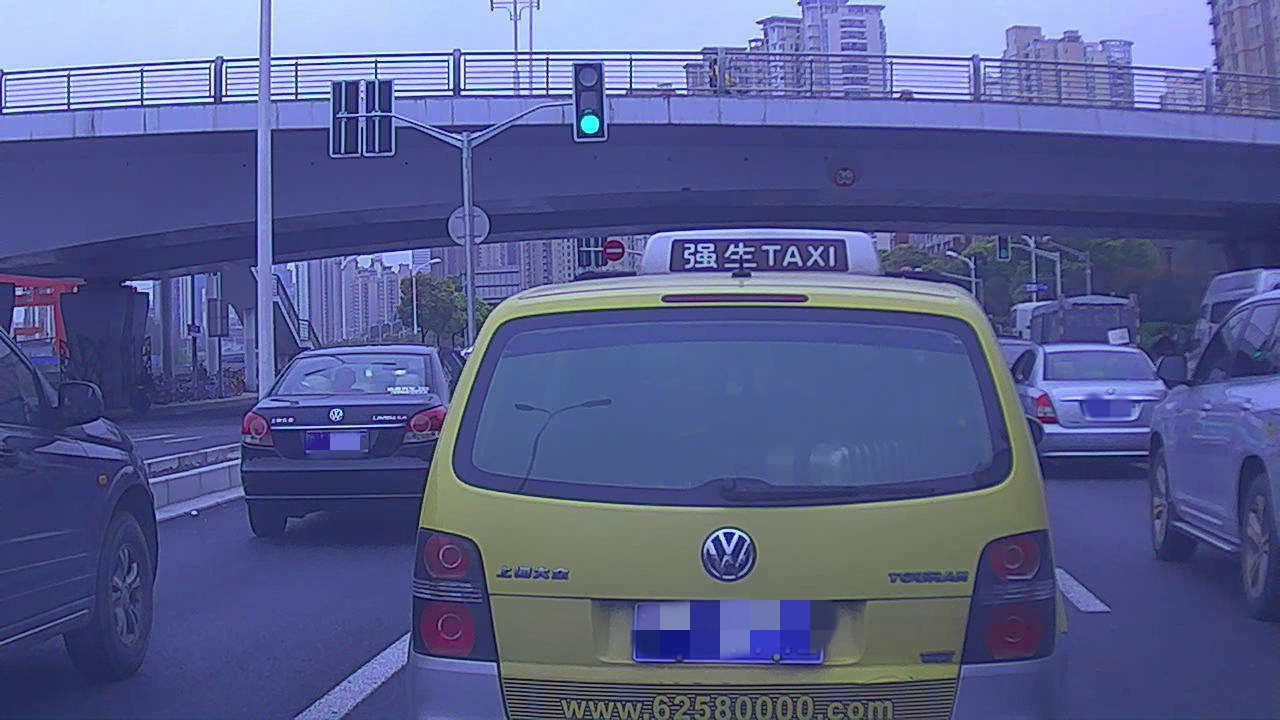traffic_light: (574, 62, 609, 139), (996, 233, 1013, 261)
